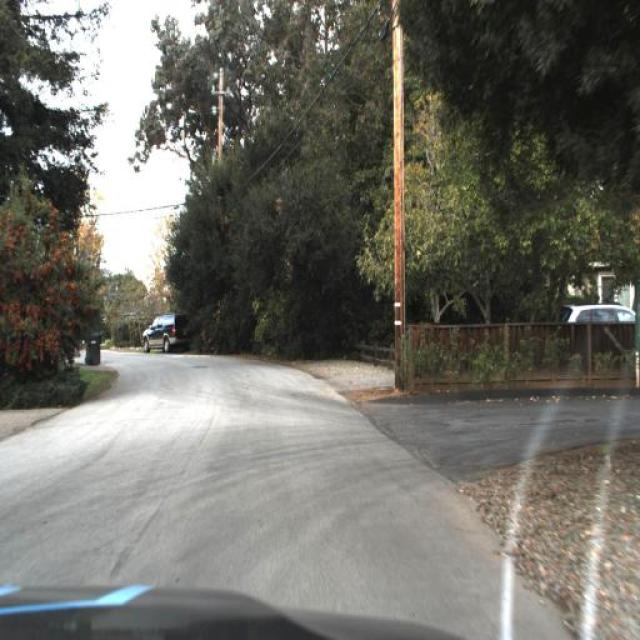car: (552, 296, 640, 365), (144, 305, 195, 360)
